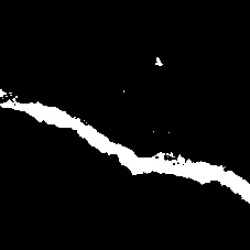crack: (3, 88, 249, 205)
pinhole: (153, 56, 165, 68)
